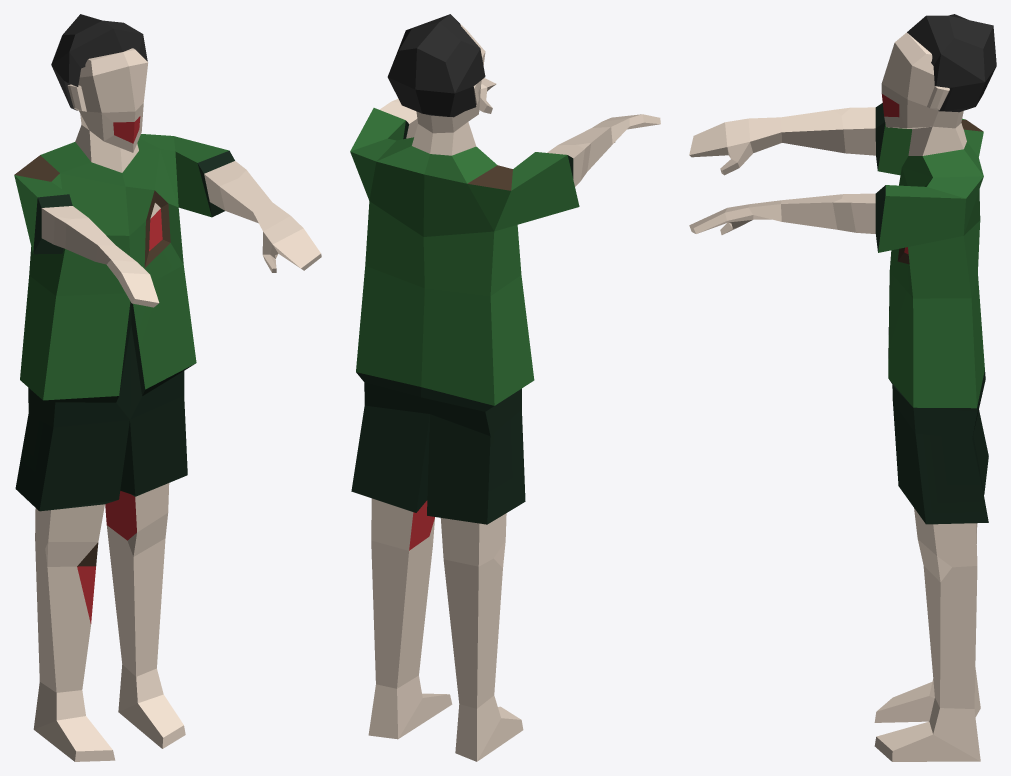
Rendered from man-zombie.fbx.
3 views of the same model, side by side, from view 1: azimuth 30°, elevation 25°; view 2: azimuth 150°, elevation 25°; view 3: azimuth 270°, elevation 25° (orthographic).
Visible parts, largest first — view 1: man_zombie; view 2: man_zombie; view 3: man_zombie.
Boxes of the visible parts, x1,y1,x2,y2 form: man_zombie: [14, 14, 321, 761]; man_zombie: [350, 14, 660, 761]; man_zombie: [689, 14, 996, 761].
Size of the model in its own units: 56.42 by 183 by 71.08.
